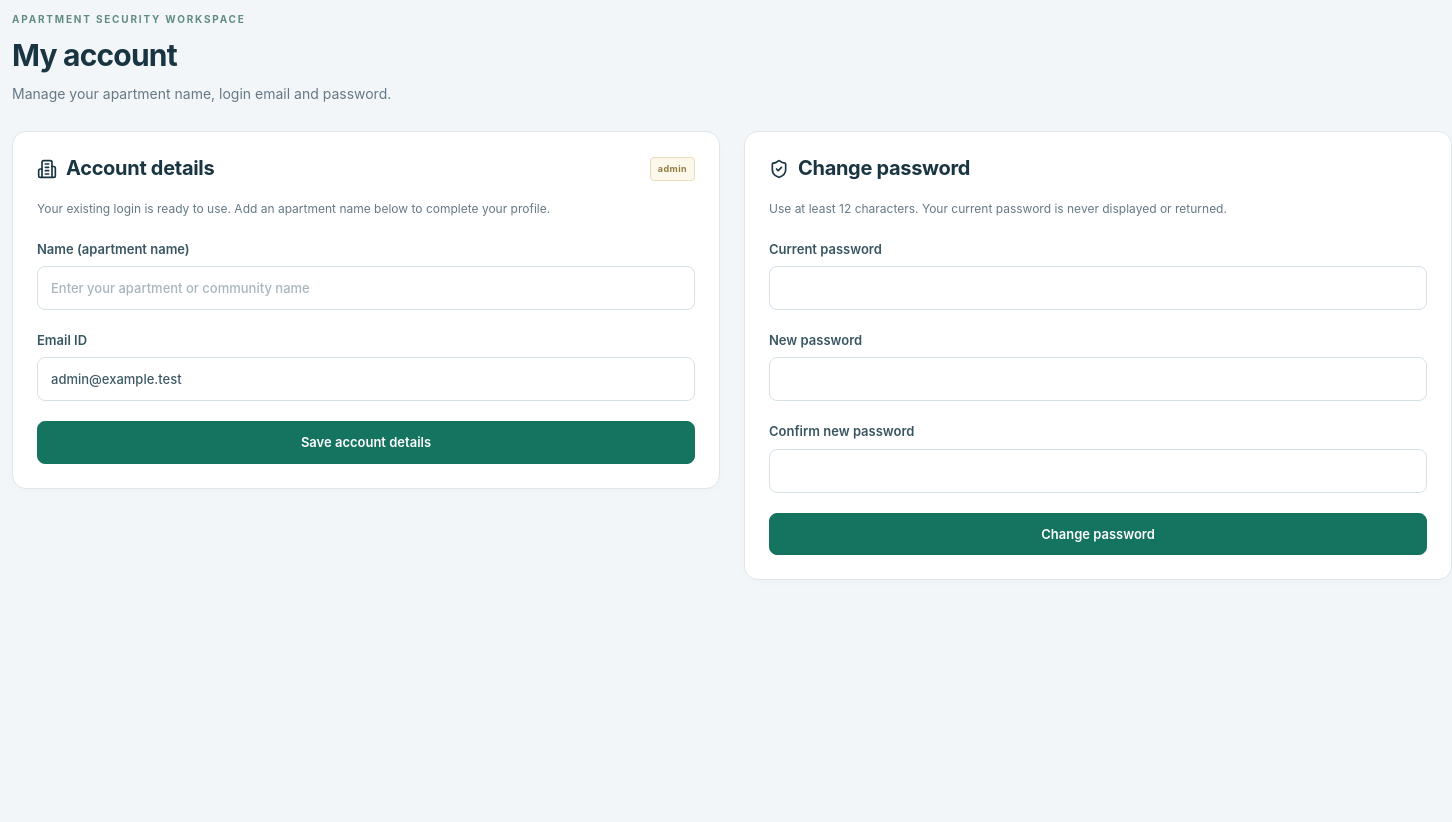
Test: requires password confirmation for changed login email and requests a fresh sign-in
Type "Lake View" into the field labelled "Name (apartment name)".
click(366, 288); type("Lake View")  # box [37,266,695,310]
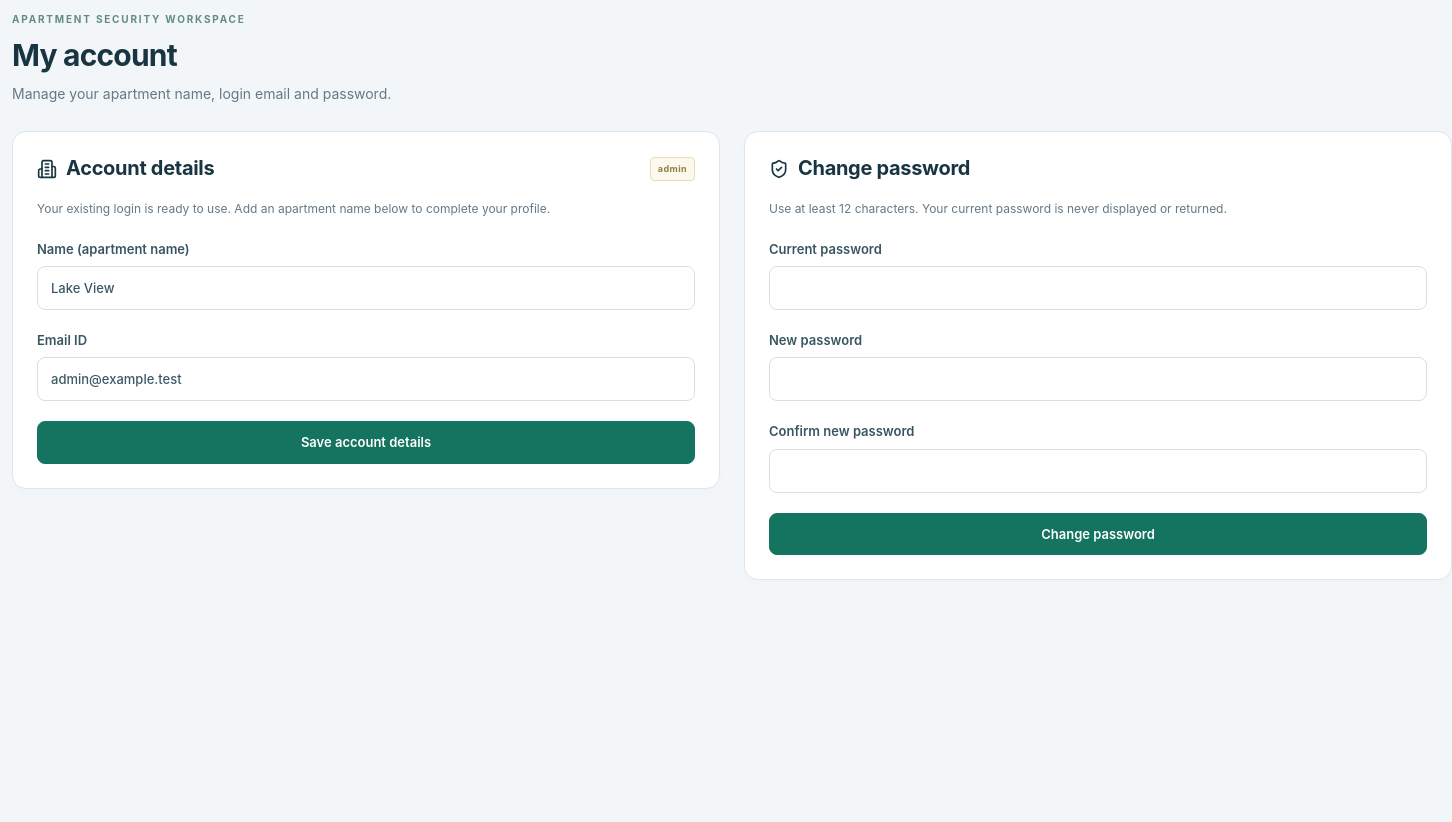
Replace the text in the field labelled "Email ID" with "new@example.test" at (366, 379), box [37,357,695,401]
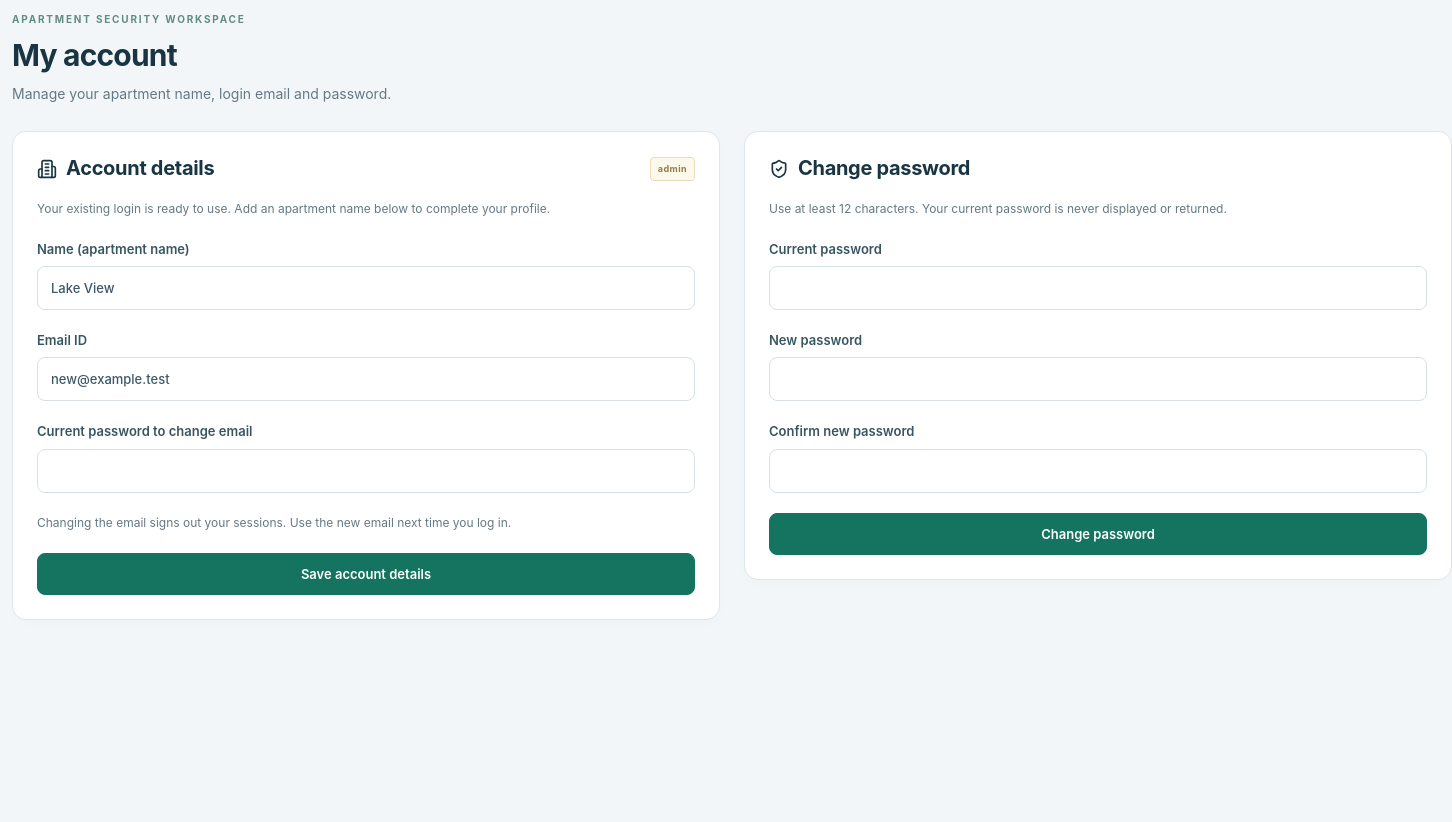
Type "old-password" into the password field labelled "Current password to change email".
click(366, 471); type("old-password")  # box [37,449,695,493]
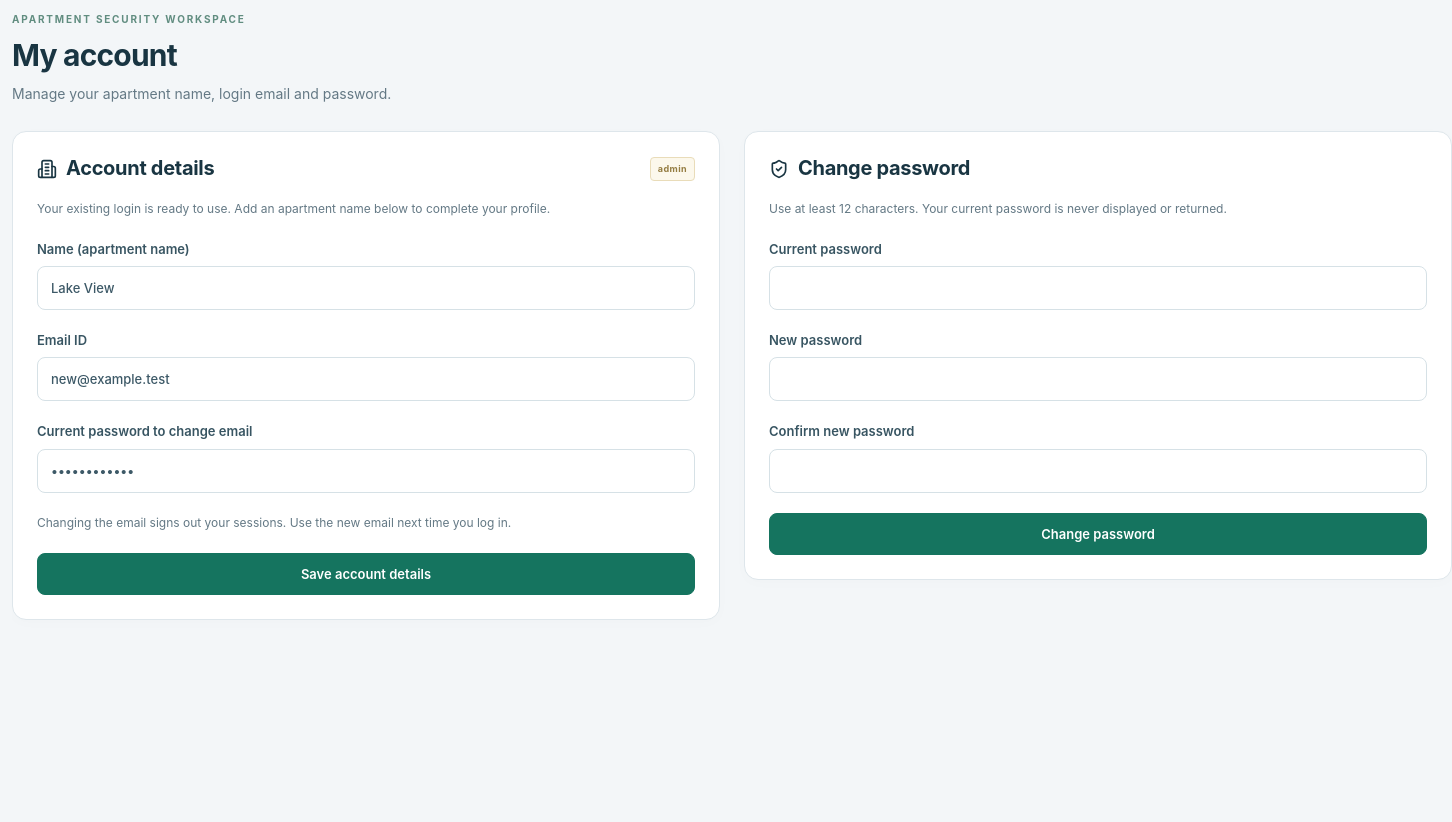
Click the button "Save account details".
click(366, 574)  # box [37,552,695,595]
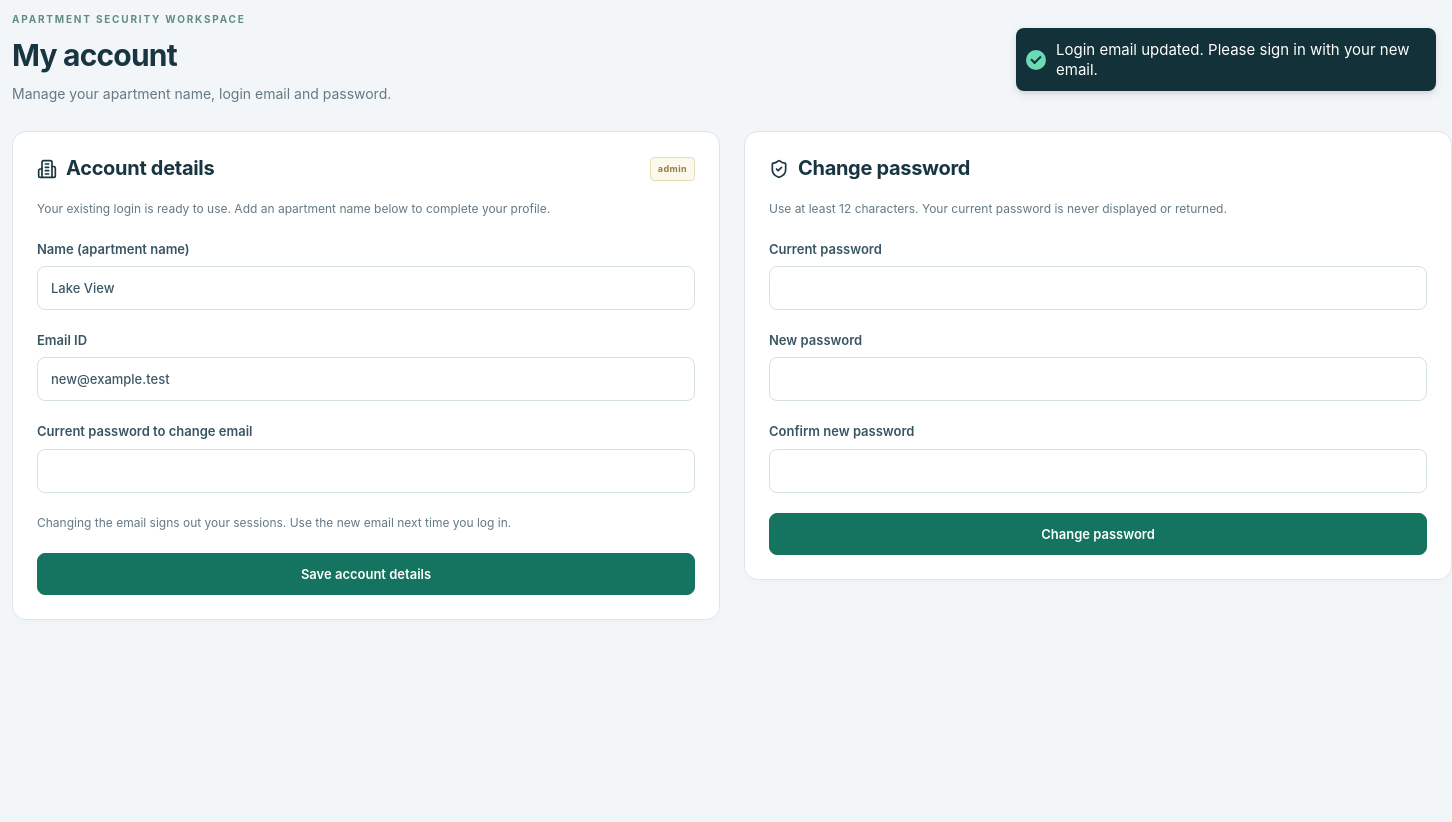
Now the text "Login email updated. Please sign in with your new email." is shown, box [1056,40,1416,79]
